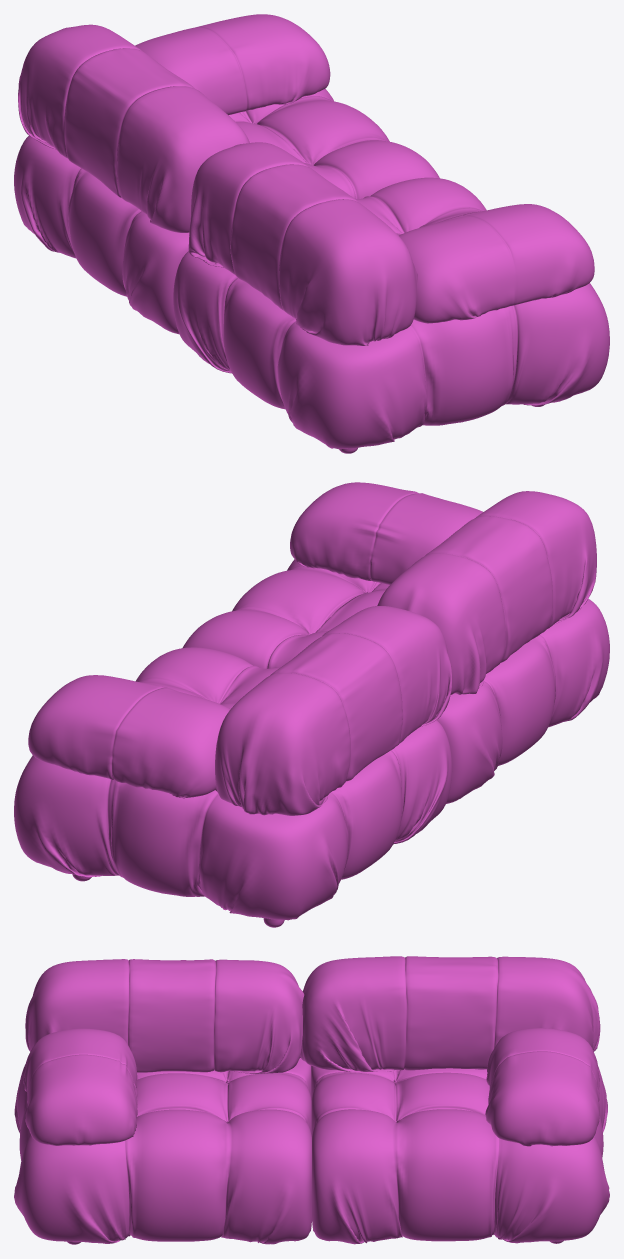
File: Camaleonda-B-2M.glb
3 renders of one model, top to bottom at view 1: azimuth 30°, elevation 25°; view 2: azimuth 150°, elevation 25°; view 3: azimuth 270°, elevation 25°, orthographic. The views are drawn at different scales.
Parts seen in each view (by area): view 1: MAIN; view 2: MAIN; view 3: MAIN.
Boxes of the visible parts, x1,y1,x2,y2 form: MAIN: (14,14,609,449); MAIN: (14,482,609,920); MAIN: (14,956,609,1244).
Bounding box in the file's own units: 1.05 × 0.7387 × 2.
